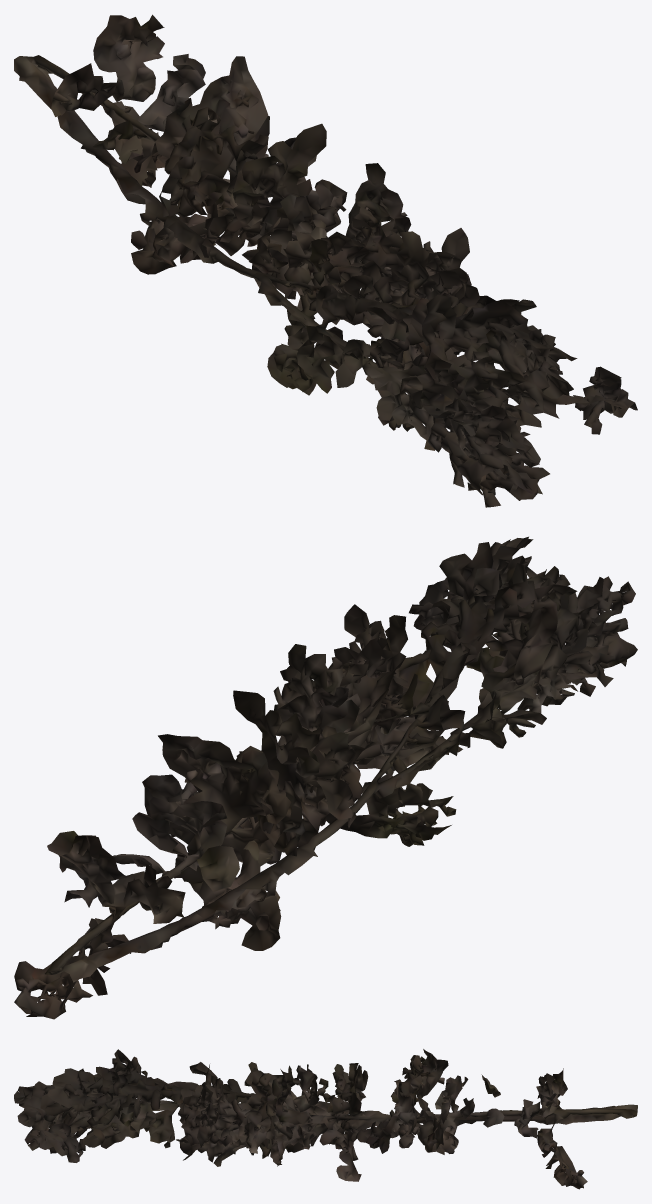
The model's file is tree6_mesh.dae.
3 renders of one model, top to bottom at view 1: azimuth 30°, elevation 25°; view 2: azimuth 150°, elevation 25°; view 3: azimuth 270°, elevation 25°, orthographic. The views are drawn at different scales.
Visible parts, largest first — view 1: node0; view 2: node0; view 3: node0.
Boxes of the visible parts, <box> form: node0: <box>14,14,637,507</box>; node0: <box>14,536,637,1019</box>; node0: <box>14,1049,637,1189</box>.
Size of the model in its own units: 5.94 by 6.16 by 28.53.
